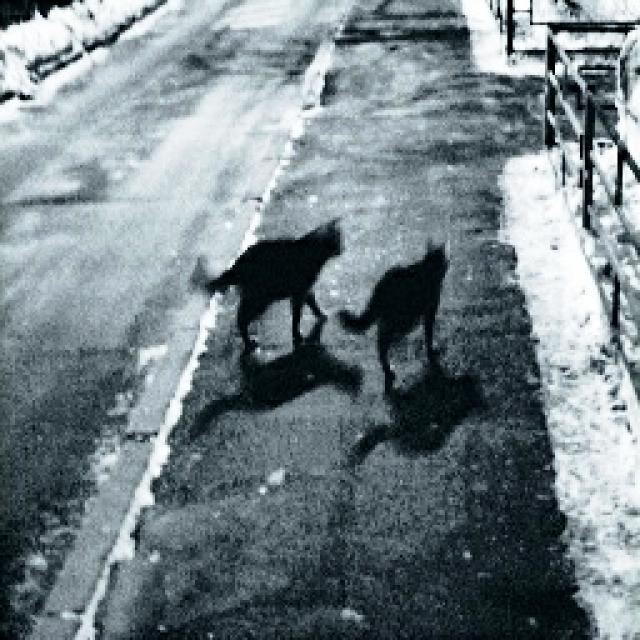cat: (192, 189, 355, 371), (333, 232, 470, 390)
